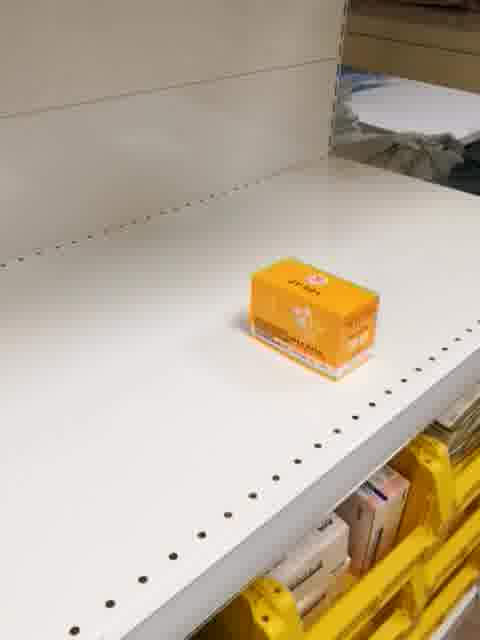jasminetea: (248, 255, 379, 386)
